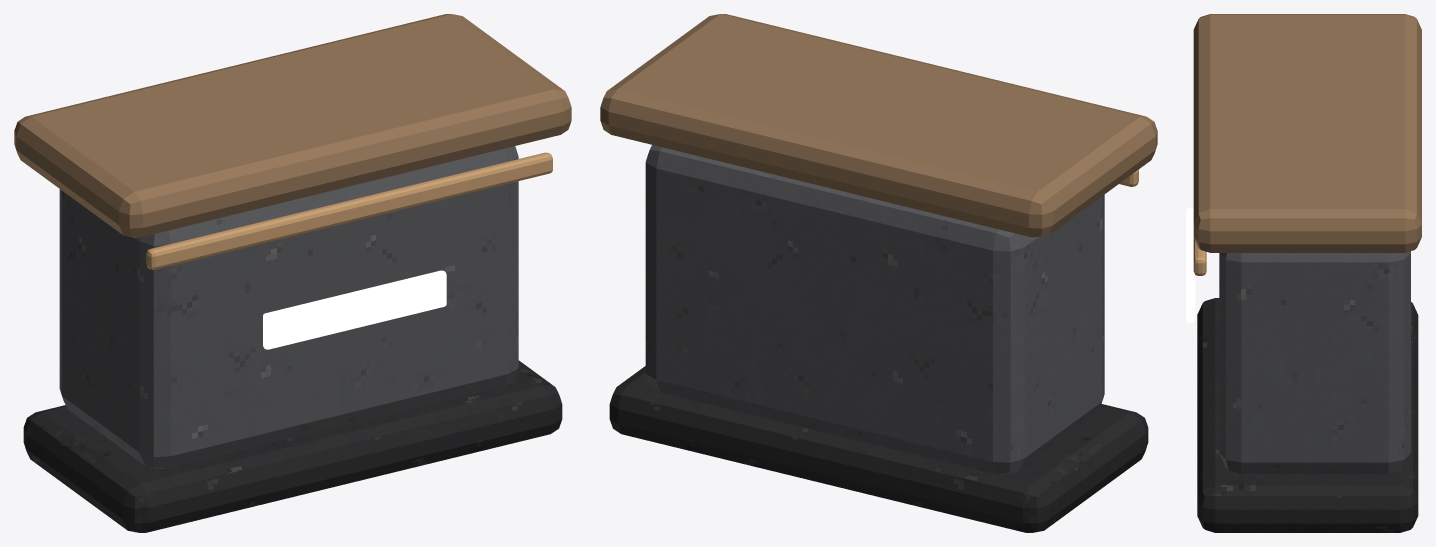
Rendered from decor_chapel_plinth.glb.
The picture shows the model from 3 angles, left to right: view 1: azimuth 30°, elevation 25°; view 2: azimuth 150°, elevation 25°; view 3: azimuth 270°, elevation 25°; orthographic projection. The views are drawn at different scales.
Parts seen in each view (by area): view 1: DECOR_CHAPEL_PLINTH__Body, DECOR_CHAPEL_PLINTH__Wood_Top, DECOR_CHAPEL_PLINTH__Base, DECOR_CHAPEL_PLINTH__Brass_Trim, DECOR_CHAPEL_PLINTH__Memorial_Light; view 2: DECOR_CHAPEL_PLINTH__Body, DECOR_CHAPEL_PLINTH__Wood_Top, DECOR_CHAPEL_PLINTH__Base; view 3: DECOR_CHAPEL_PLINTH__Wood_Top, DECOR_CHAPEL_PLINTH__Body, DECOR_CHAPEL_PLINTH__Base, DECOR_CHAPEL_PLINTH__Memorial_Light, DECOR_CHAPEL_PLINTH__Brass_Trim.
Part boxes in pixels (x1=…): DECOR_CHAPEL_PLINTH__Body: x1=59, y1=146, x2=518, y2=468; DECOR_CHAPEL_PLINTH__Wood_Top: x1=14, y1=14, x2=571, y2=237; DECOR_CHAPEL_PLINTH__Base: x1=23, y1=360, x2=562, y2=532; DECOR_CHAPEL_PLINTH__Brass_Trim: x1=146, y1=152, x2=552, y2=269; DECOR_CHAPEL_PLINTH__Memorial_Light: x1=263, y1=270, x2=446, y2=349; DECOR_CHAPEL_PLINTH__Body: x1=645, y1=145, x2=1104, y2=474; DECOR_CHAPEL_PLINTH__Wood_Top: x1=600, y1=14, x2=1157, y2=237; DECOR_CHAPEL_PLINTH__Base: x1=609, y1=366, x2=1148, y2=532; DECOR_CHAPEL_PLINTH__Wood_Top: x1=1193, y1=14, x2=1421, y2=252; DECOR_CHAPEL_PLINTH__Body: x1=1219, y1=251, x2=1410, y2=473; DECOR_CHAPEL_PLINTH__Base: x1=1197, y1=298, x2=1418, y2=532; DECOR_CHAPEL_PLINTH__Memorial_Light: x1=1186, y1=208, x2=1195, y2=322; DECOR_CHAPEL_PLINTH__Brass_Trim: x1=1193, y1=238, x2=1206, y2=275.
Size of the model in its own units: 1.34 by 0.98 by 0.6405.
Materials: 5 (2 with a texture image).
